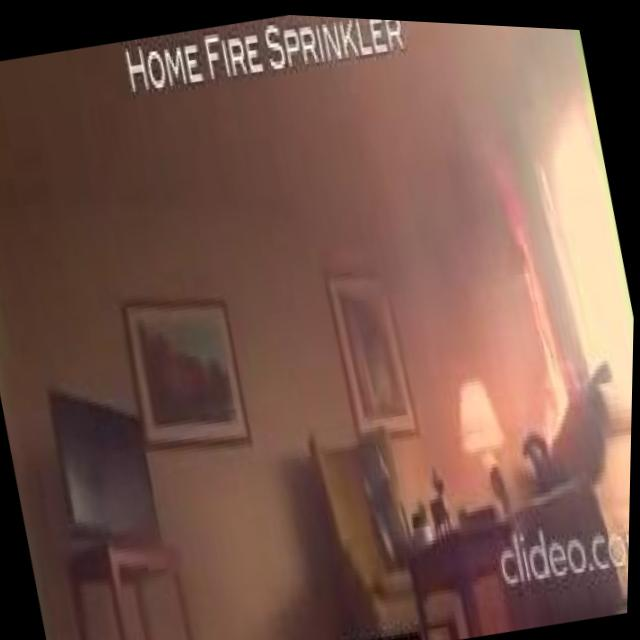fire: (480, 179, 586, 445)
